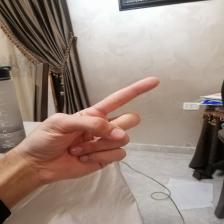one: (25, 76, 165, 188)
